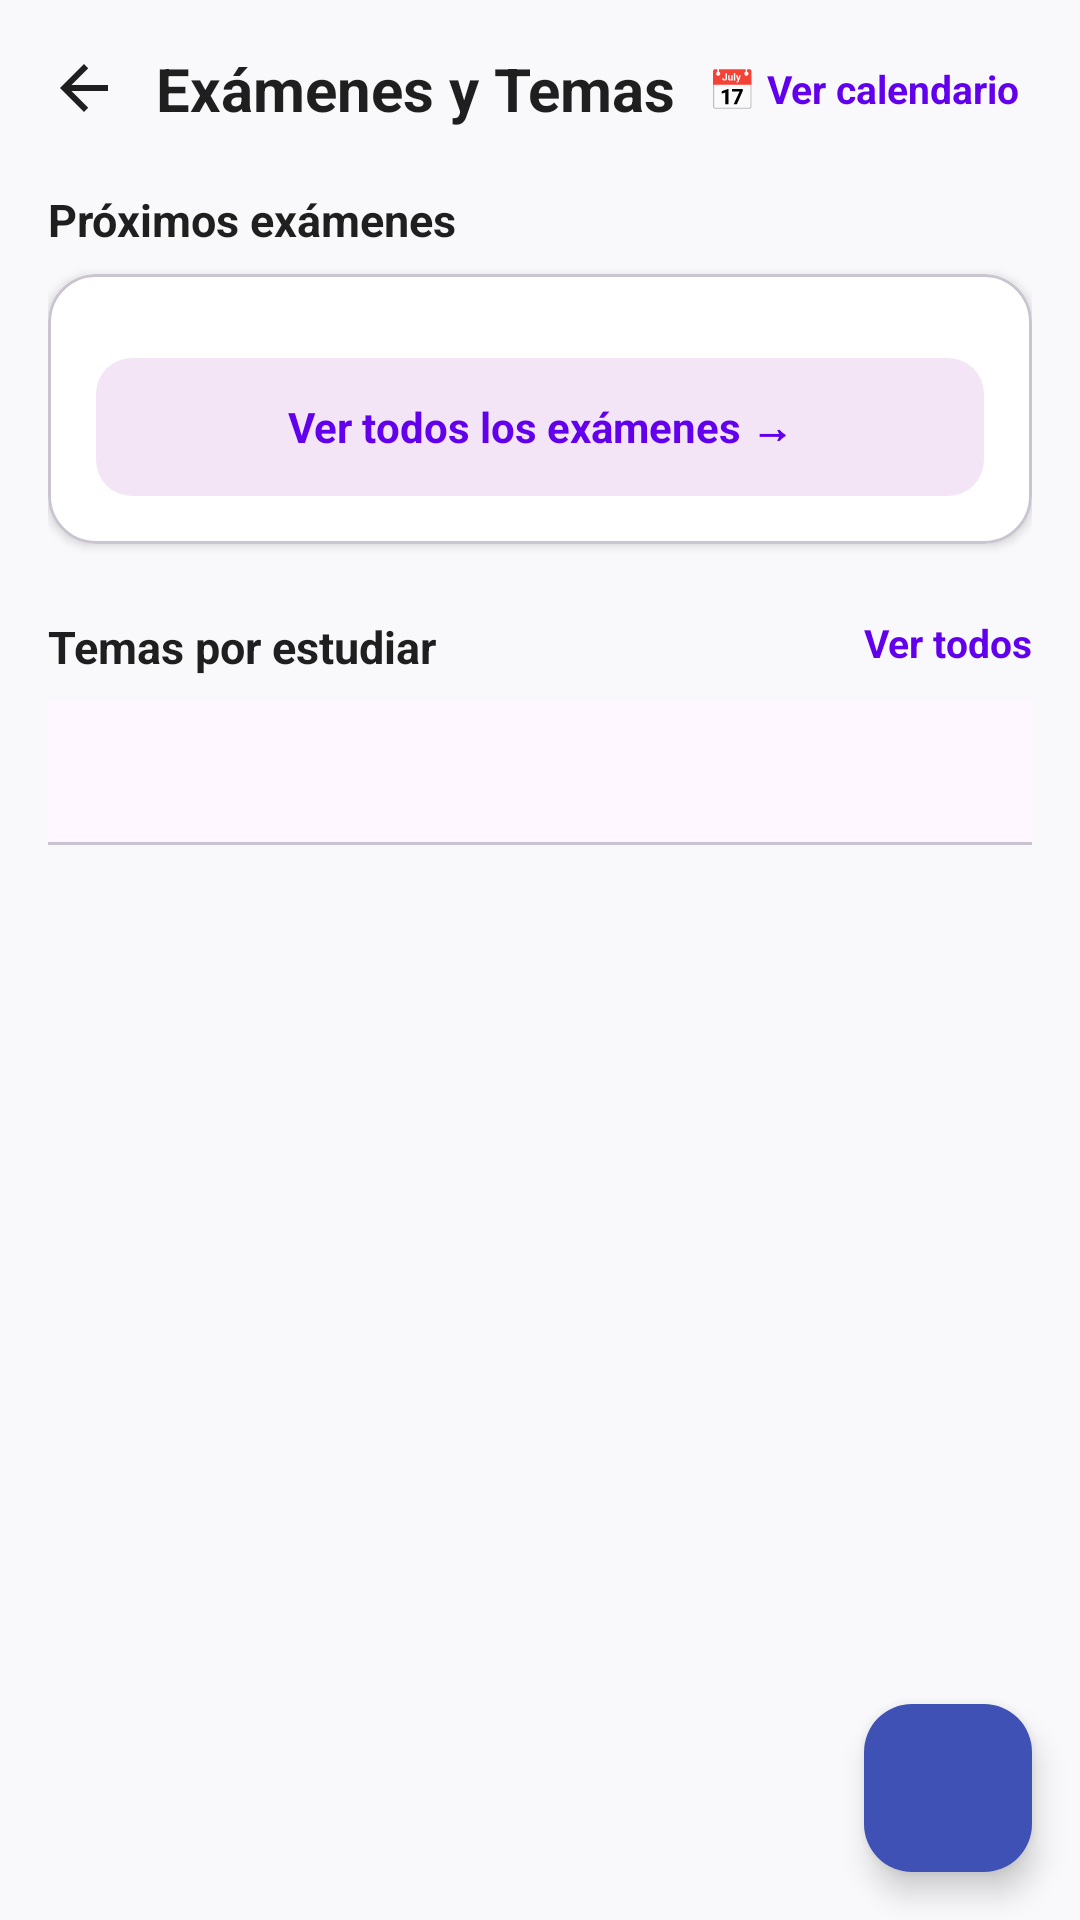

Screen size 1080x1920. Icon name, then its box in pixels as [x1, y1, x2, y2]:
Atrás: [60, 64, 108, 112]
